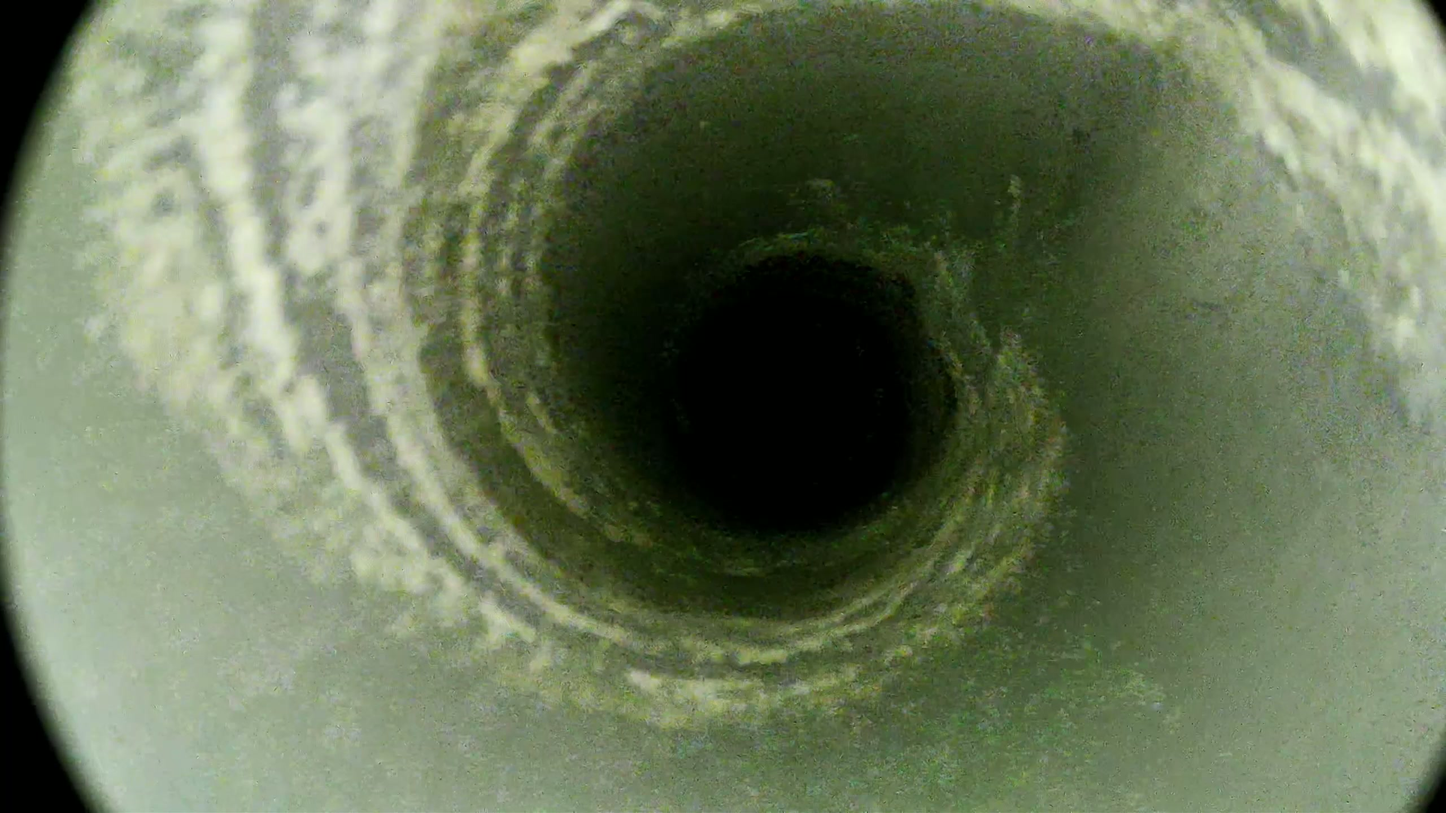hole: (674, 296, 902, 520)
